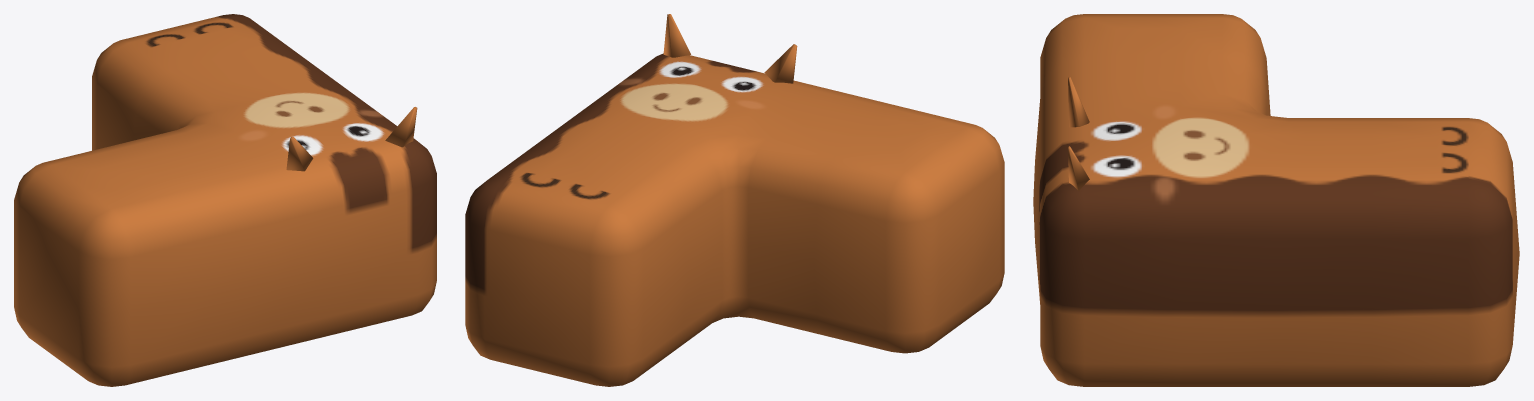
The model's file is Horse_Corner.fbx.
The picture shows the model from 3 angles, left to right: view 1: azimuth 30°, elevation 25°; view 2: azimuth 150°, elevation 25°; view 3: azimuth 270°, elevation 25°; orthographic projection. The views are drawn at different scales.
Visible parts, largest first — view 1: Horse_Corner; view 2: Horse_Corner; view 3: Horse_Corner.
Part boxes in pixels (x1,y1,x2,y2): Horse_Corner: (14,14,436,386); Horse_Corner: (465,14,1004,386); Horse_Corner: (1033,14,1519,386).
Bounding box in the file's own units: 1.98 × 1.04 × 1.98.
Materials: 1 (1 with a texture image).
